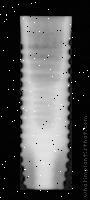Biomet 3i: (18, 16, 72, 191)
